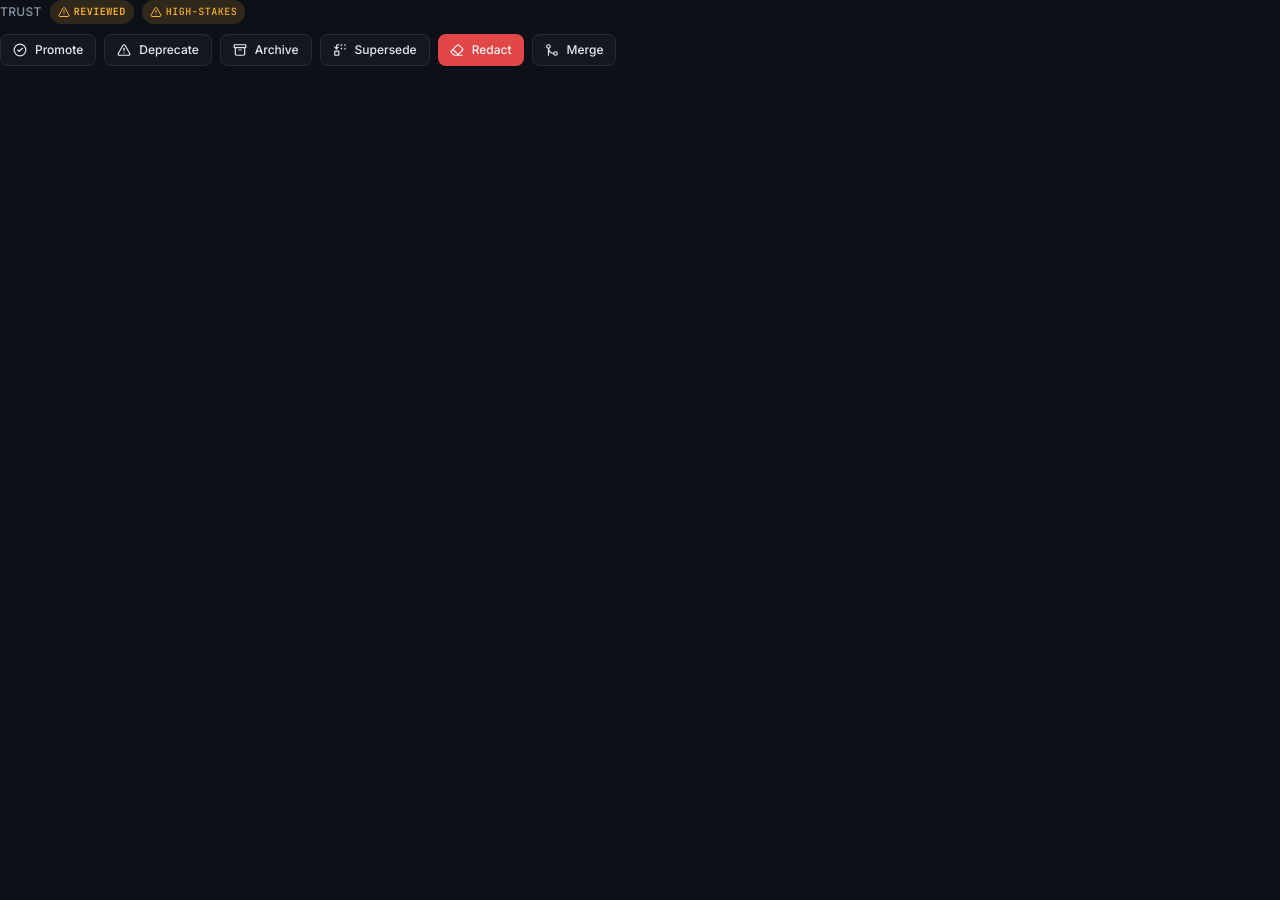
Test case: <TrustActions /> › blocks promote without evidence on high-stakes risk classes
Click the button with test id "trust-op-promote". click: (48, 50)
box: [0,34,96,66]
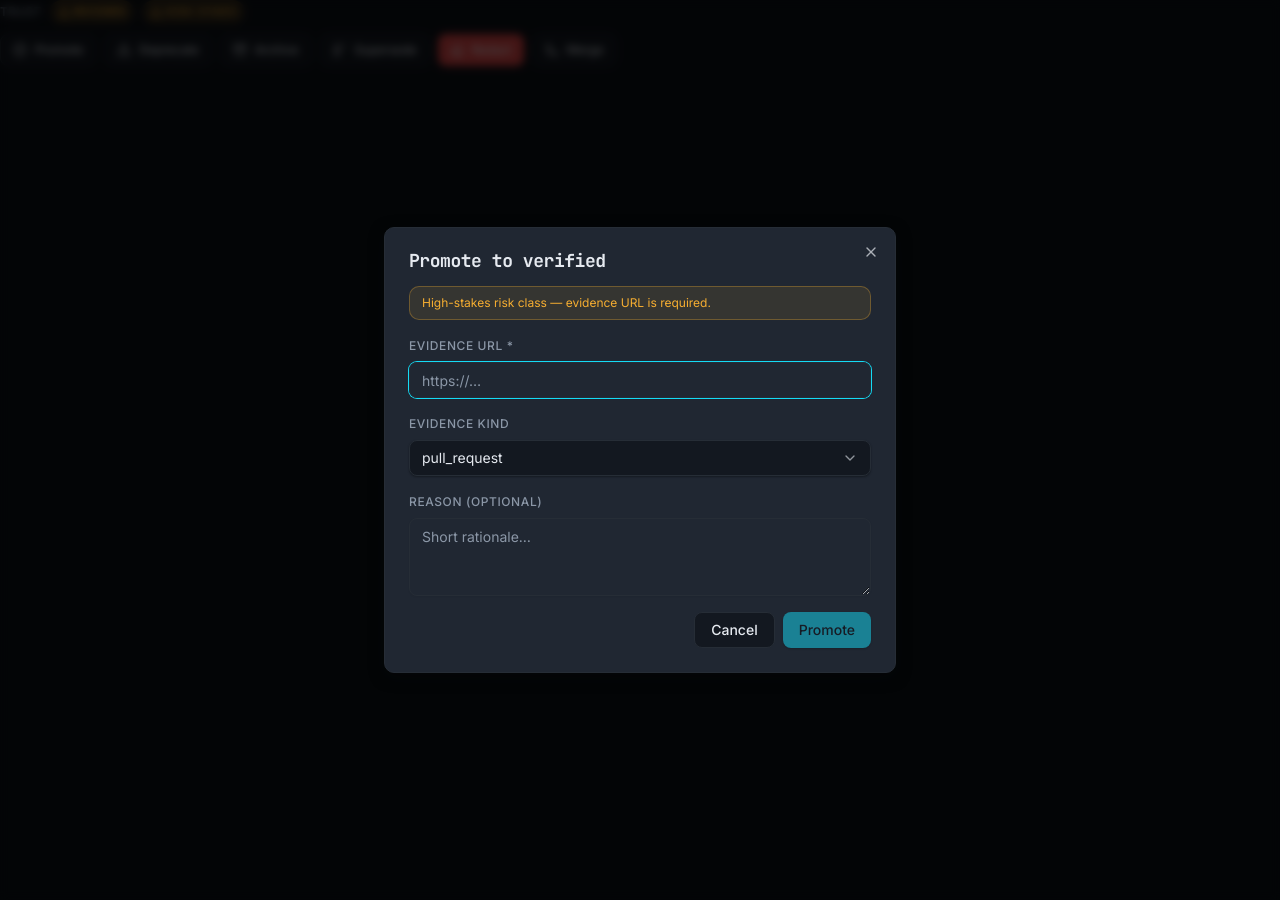
Expected: the button with test id "promote-confirm" is disabled, [783,612,871,648]
